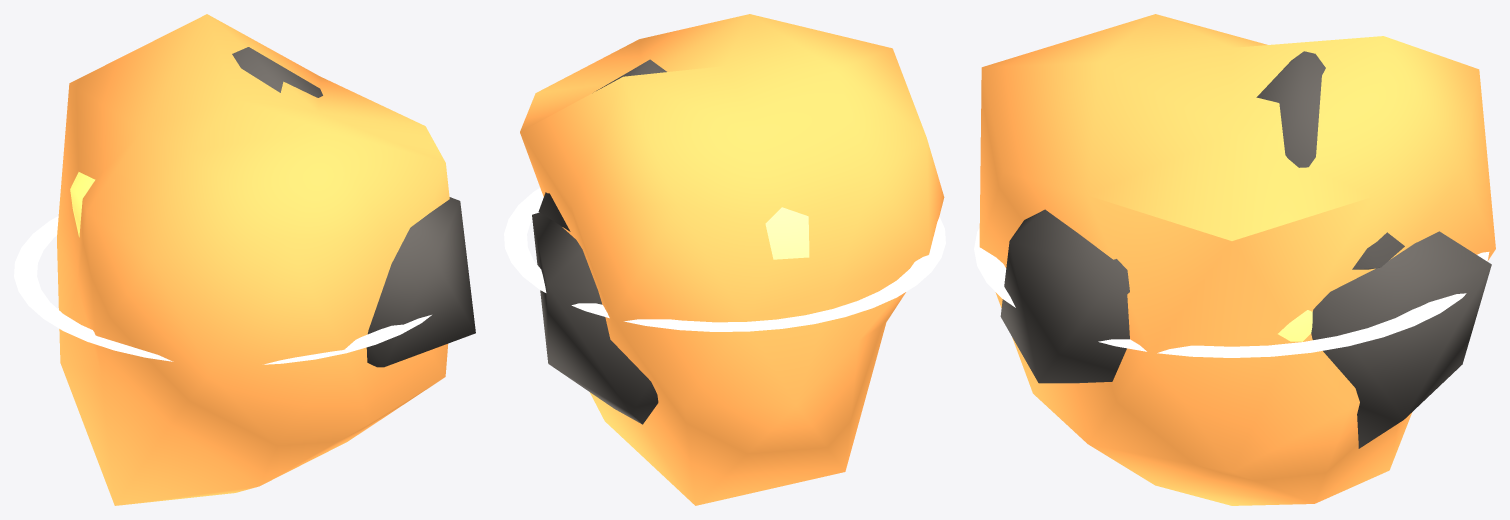
Rendered from vfx_explosion.glb.
The picture shows the model from 3 angles, left to right: view 1: azimuth 30°, elevation 25°; view 2: azimuth 150°, elevation 25°; view 3: azimuth 270°, elevation 25°; orthographic projection. The views are drawn at different scales.
Parts seen in each view (by area): view 1: FireOuter, Smoke1, Shockwave, Smoke0, FireMid; view 2: FireOuter, Smoke2, Shockwave, FireMid, Smoke0; view 3: FireOuter, Smoke2, Smoke1, Smoke0, Shockwave, FireMid.
Boxes of the visible parts, x1,y1,x2,y2 form: FireOuter: (57,14,449,505); Smoke1: (366,197,475,367); Shockwave: (14,216,431,364); Smoke0: (232,47,322,97); FireMid: (70,172,95,237); FireOuter: (520,14,944,505); Smoke2: (532,212,658,424); Shockwave: (504,188,945,331); FireMid: (765,207,809,259); Smoke0: (538,59,666,231); FireOuter: (979,14,1495,505); Smoke2: (1311,231,1491,448); Smoke1: (1000,209,1129,383); Smoke0: (1256,51,1404,269); Shockwave: (974,228,1489,357); FireMid: (1278,310,1312,341).
Size of the model in its own units: 2.11 by 2.22 by 2.13.
